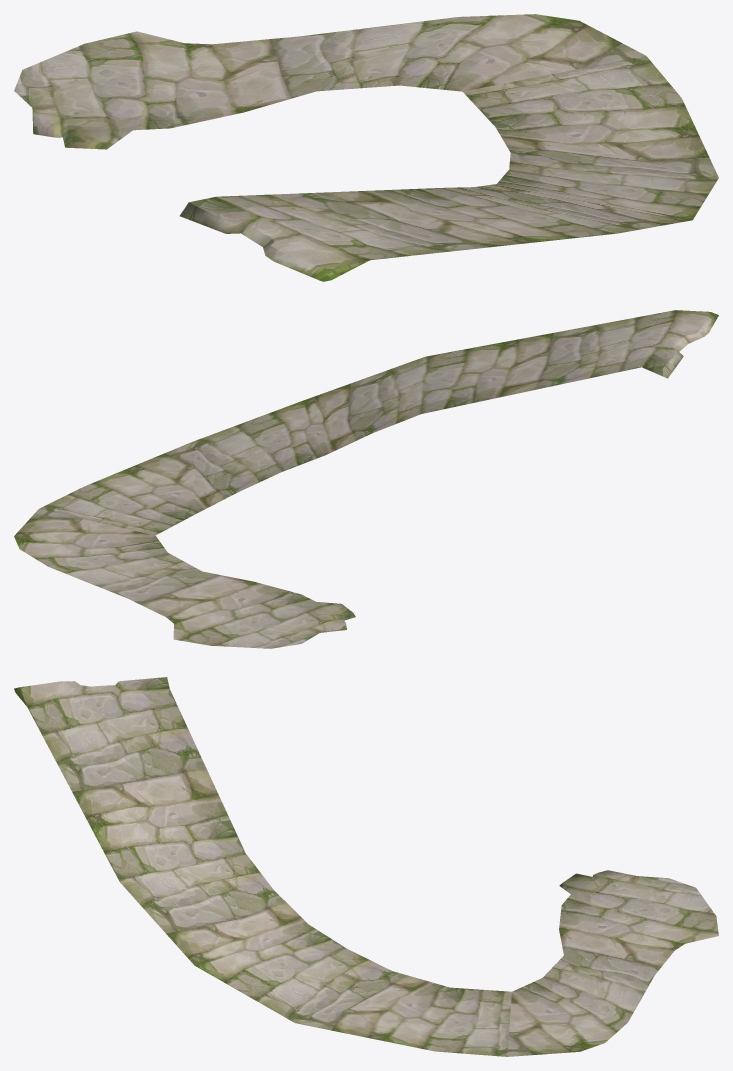
File: wenquan_db_02_c.FBX
3 renders of one model, top to bottom at view 1: azimuth 30°, elevation 25°; view 2: azimuth 150°, elevation 25°; view 3: azimuth 270°, elevation 25°, orthographic. The views are drawn at different scales.
Visible parts, largest first — view 1: wenquan_db_02_c; view 2: wenquan_db_02_c; view 3: wenquan_db_02_c.
Part boxes in pixels (box(x1,y1,x2,y2)): wenquan_db_02_c: box(14, 14, 718, 281); wenquan_db_02_c: box(14, 310, 718, 648); wenquan_db_02_c: box(14, 677, 718, 1056).
Size of the model in its own units: 1081 by 300 by 1337.
